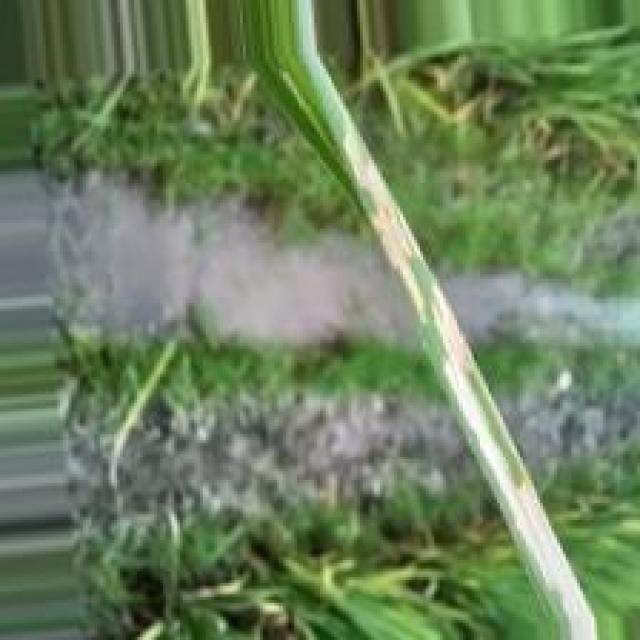Rice_Hispa: (434, 278, 602, 639), (339, 100, 421, 321)
